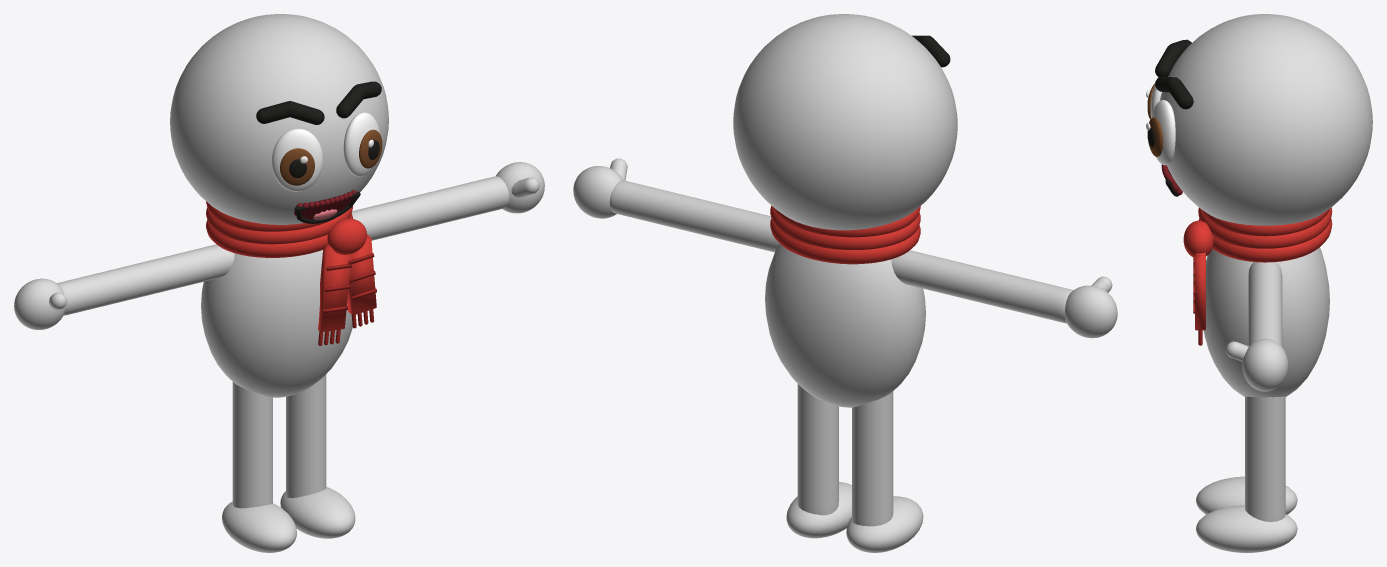
File: nod_tpose.fbx
The picture shows the model from 3 angles, left to right: view 1: azimuth 30°, elevation 25°; view 2: azimuth 150°, elevation 25°; view 3: azimuth 270°, elevation 25°; orthographic projection. The views are drawn at different scales.
Parts seen in each view (by area): view 1: Nod; view 2: Nod; view 3: Nod.
Part boxes in pixels (x1,y1,x2,y2): Nod: [14, 14, 544, 552]; Nod: [573, 14, 1117, 552]; Nod: [1146, 14, 1372, 552].
Bounding box in the file's own units: 1.98 × 1.82 × 0.7358.
